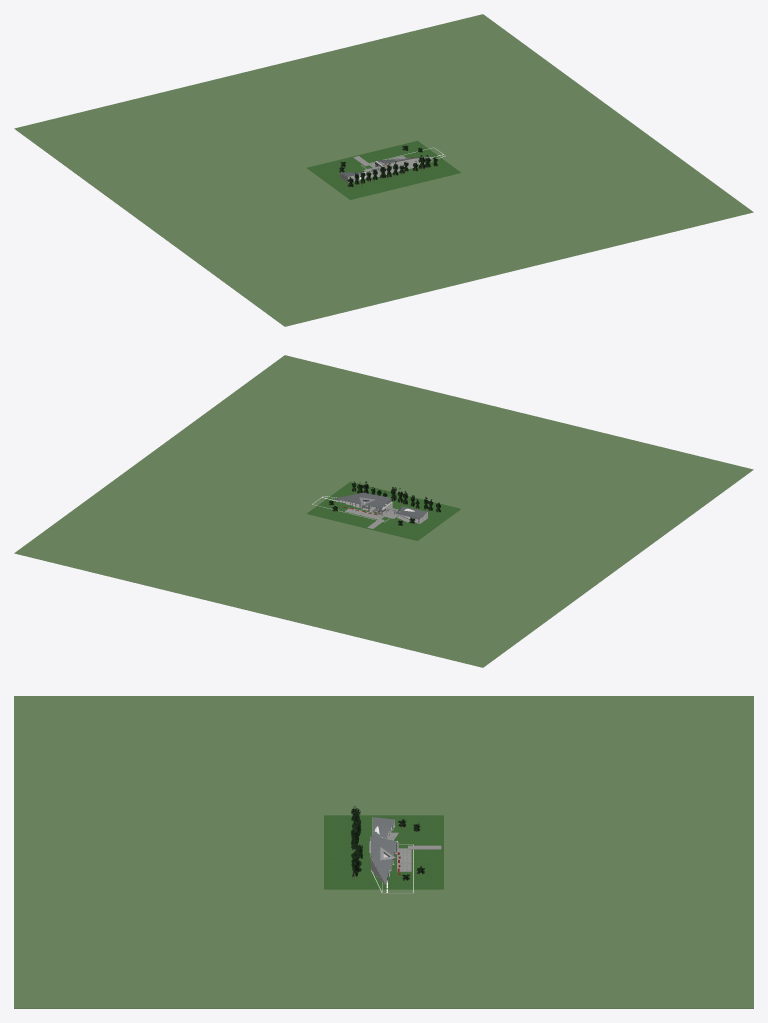
File: design2121.glb
The picture shows the model from 3 angles, top to bottom: view 1: azimuth 30°, elevation 25°; view 2: azimuth 150°, elevation 25°; view 3: azimuth 270°, elevation 25°; orthographic projection. The views are drawn at different scales.
Visible parts, largest first — view 1: SM_Site_FarGround_North, SM_Site_FarGround_South, SM_Site_FarGround_West, SM_Site_FarGround_East, SM_Site_Ground; view 2: SM_Site_FarGround_South, SM_Site_FarGround_North, SM_Site_FarGround_West, SM_Site_FarGround_East, SM_Site_Ground; view 3: SM_Site_FarGround_North, SM_Site_FarGround_South, SM_Site_FarGround_East, SM_Site_FarGround_West, SM_Site_Ground, SM_Museum_Roof.
Part boxes in pixels (x1,y1,x2,y2): SM_Site_FarGround_North: (171, 129, 753, 326); SM_Site_FarGround_South: (14, 14, 595, 211); SM_Site_FarGround_West: (127, 168, 349, 243); SM_Site_FarGround_East: (418, 97, 639, 172); SM_Site_Ground: (307, 140, 461, 199); SM_Site_FarGround_South: (14, 470, 596, 667); SM_Site_FarGround_North: (172, 355, 753, 552); SM_Site_FarGround_West: (418, 509, 640, 584); SM_Site_FarGround_East: (128, 438, 349, 513); SM_Site_Ground: (306, 481, 460, 540); SM_Site_FarGround_North: (14, 696, 323, 1008); SM_Site_FarGround_South: (444, 696, 753, 1008); SM_Site_FarGround_East: (324, 889, 443, 1008); SM_Site_FarGround_West: (324, 696, 443, 815); SM_Site_Ground: (324, 815, 443, 889); SM_Museum_Roof: (371, 836, 396, 883).
Bounding box in the file's own units: 400 × 19.91 × 400.
53 materials, 12 textured.
